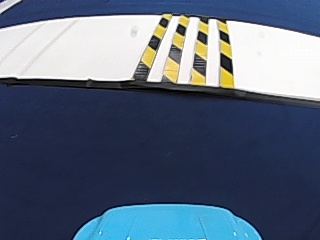bump: (127, 14, 240, 85)
